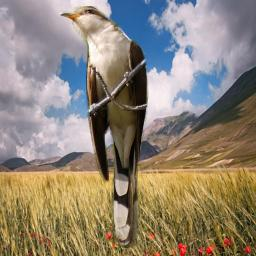Cuckoo: (59, 6, 149, 248)
